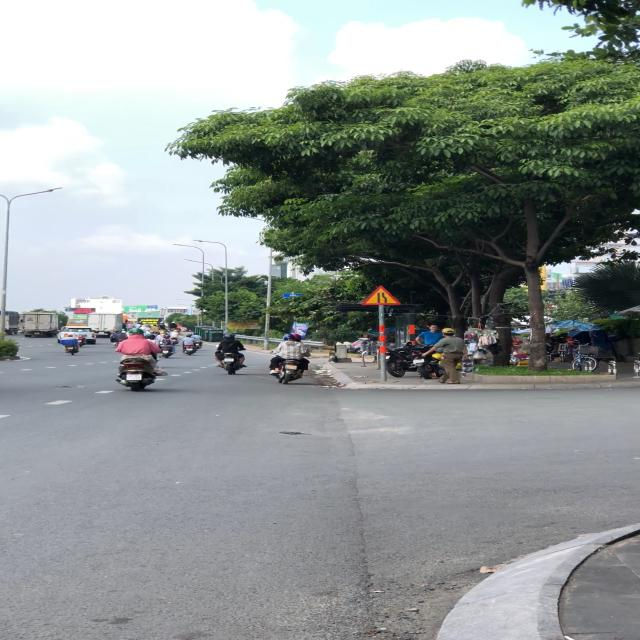Bien bao duong bi thu hep: (362, 286, 402, 306)
